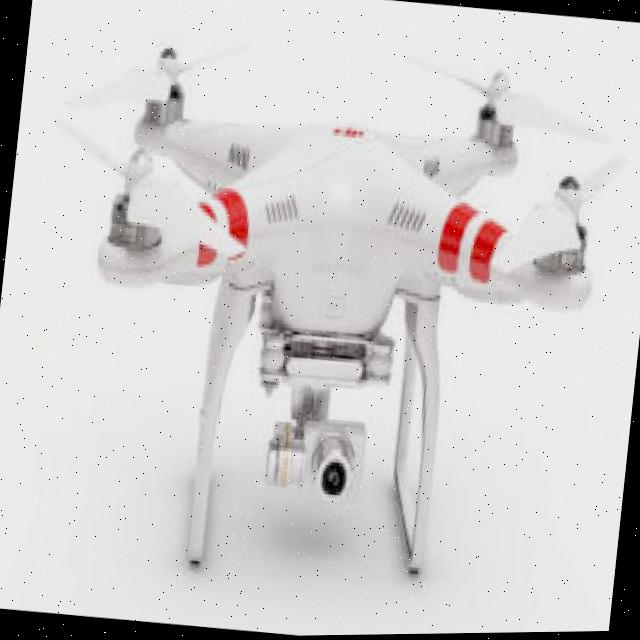drone: (29, 16, 640, 393)
